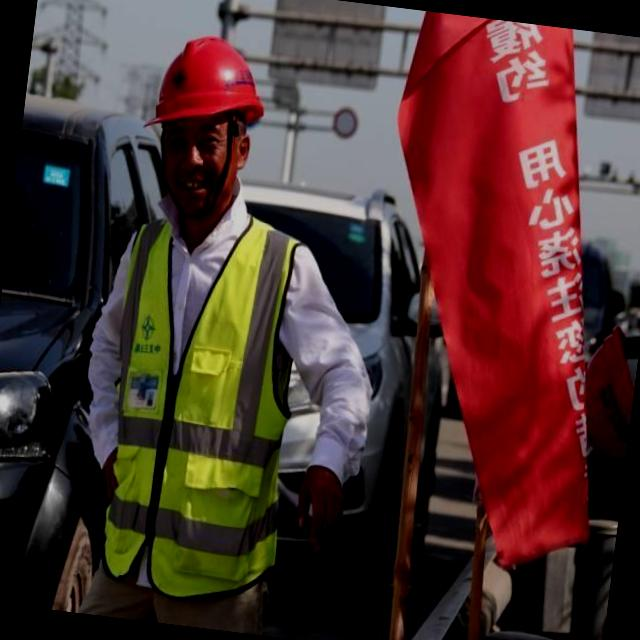helmet: (134, 19, 280, 152)
no-goggles: (160, 118, 242, 160)
vest: (78, 200, 318, 606)
